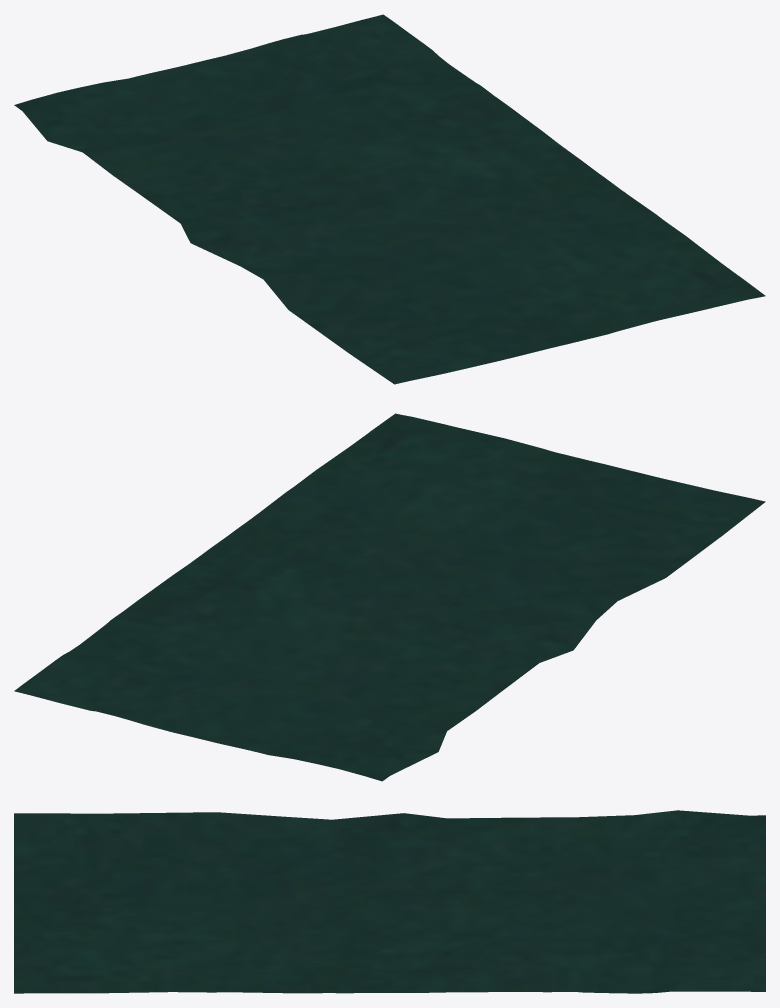
3 views of the same model, one above another, from view 1: azimuth 30°, elevation 25°; view 2: azimuth 150°, elevation 25°; view 3: azimuth 270°, elevation 25° (orthographic).
Size of the model in its own units: 30.02 by 0.4283 by 52.22.
Materials: 1 (1 with a texture image).
